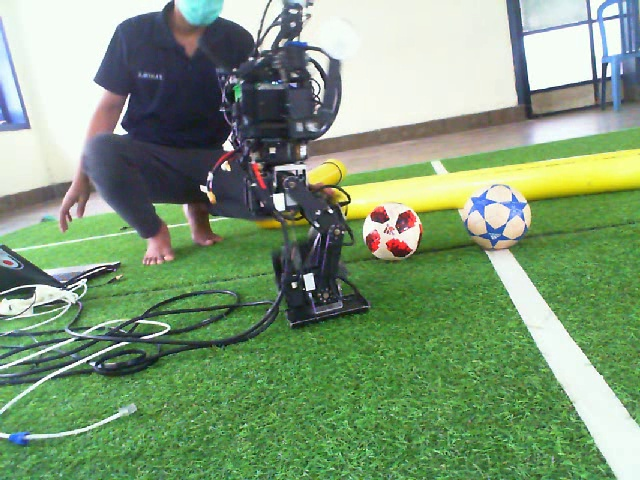ball: (460, 181, 533, 251), (361, 198, 425, 263)
